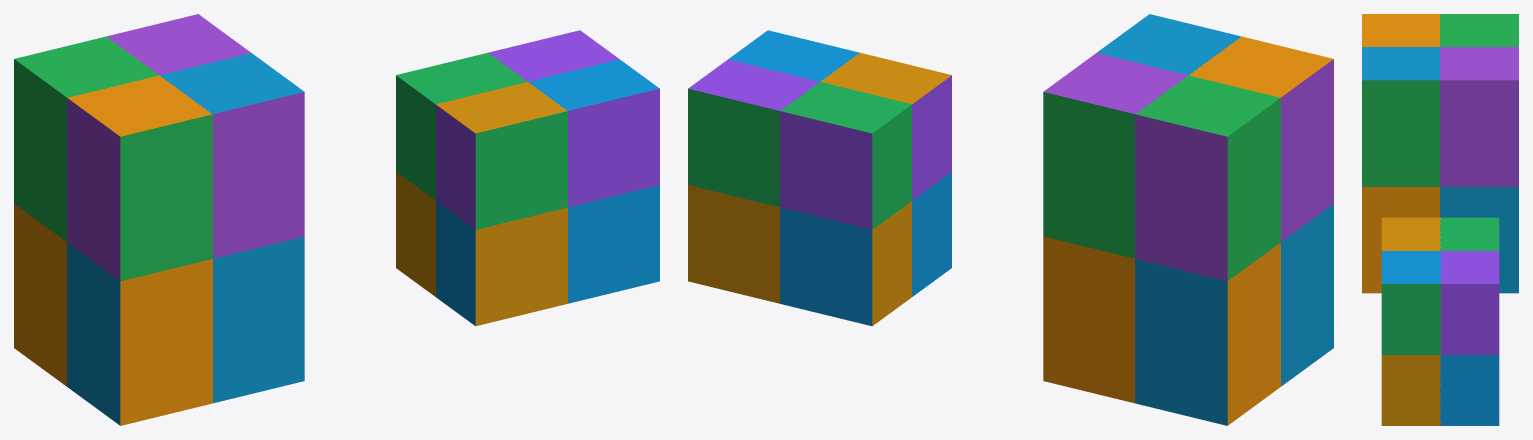
The model's file is crc-static-glb-slice.glb.
3 renders of one model, left to right at view 1: azimuth 30°, elevation 25°; view 2: azimuth 150°, elevation 25°; view 3: azimuth 270°, elevation 25°, orthographic. The views are drawn at different scales.
Parts seen in each view (by area): view 1: TallTexturedBlock, MetallicTexturedBlock; view 2: TallTexturedBlock, MetallicTexturedBlock; view 3: TallTexturedBlock, MetallicTexturedBlock.
Boxes of the visible parts, left/top/right/bottom form: TallTexturedBlock: left=14, top=14, right=304, bottom=425; MetallicTexturedBlock: left=396, top=30, right=659, bottom=326; TallTexturedBlock: left=1043, top=14, right=1333, bottom=425; MetallicTexturedBlock: left=688, top=30, right=951, bottom=326; TallTexturedBlock: left=1362, top=14, right=1518, bottom=293; MetallicTexturedBlock: left=1381, top=217, right=1499, bottom=425.
Bounding box in the file's own units: 3 × 1.5 × 1.
2 materials, 2 textured.
